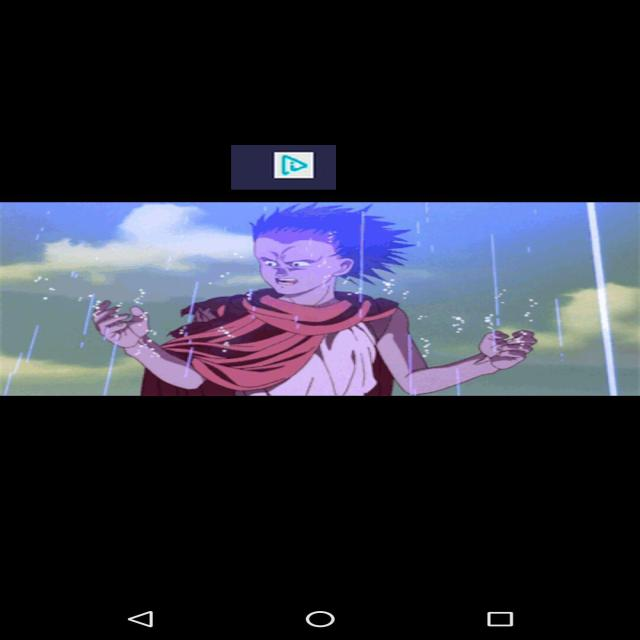sneaking: (231, 145, 336, 190)
